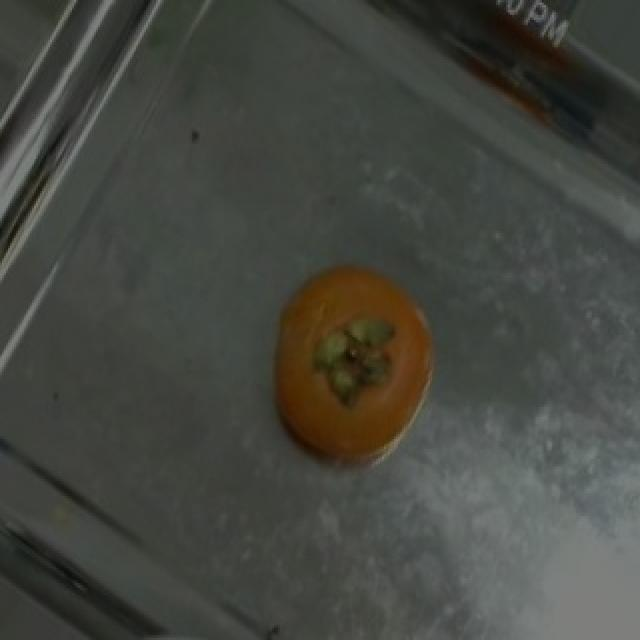Fruit: (246, 243, 460, 484)
